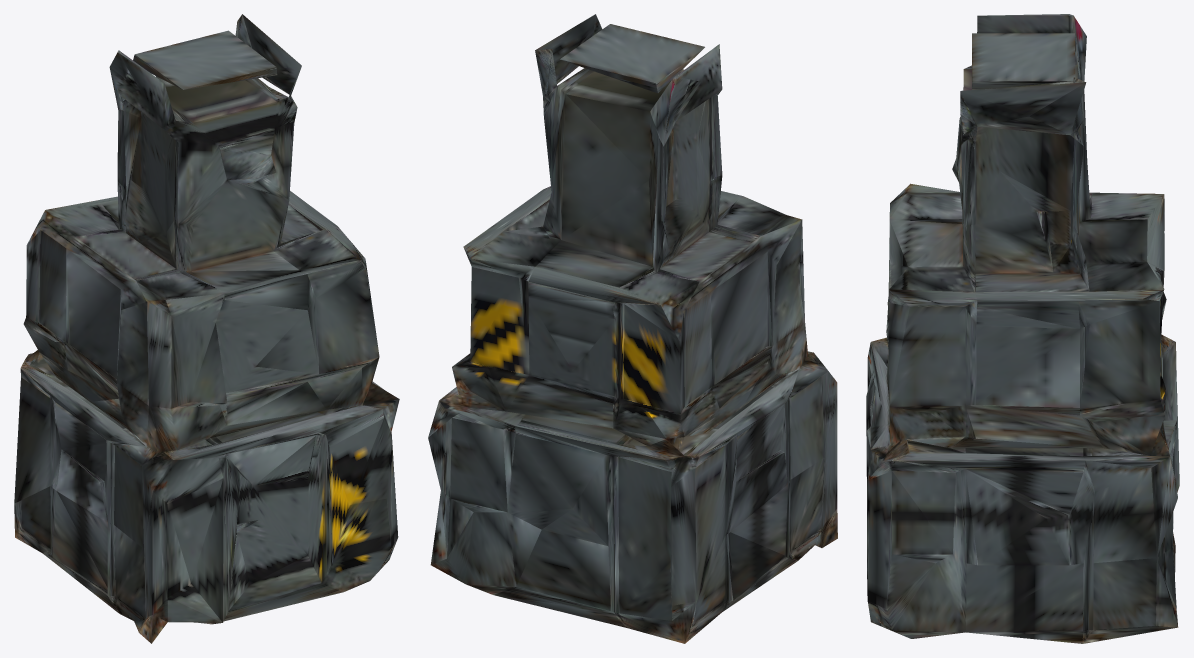
Rendered from cover_full_dock_v1_lod1.glb.
3 renders of one model, left to right at view 1: azimuth 30°, elevation 25°; view 2: azimuth 150°, elevation 25°; view 3: azimuth 270°, elevation 25°, orthographic. The views are drawn at different scales.
Size of the model in its own units: 0.9795 by 1.85 by 0.9813.
1 material, 1 textured.
